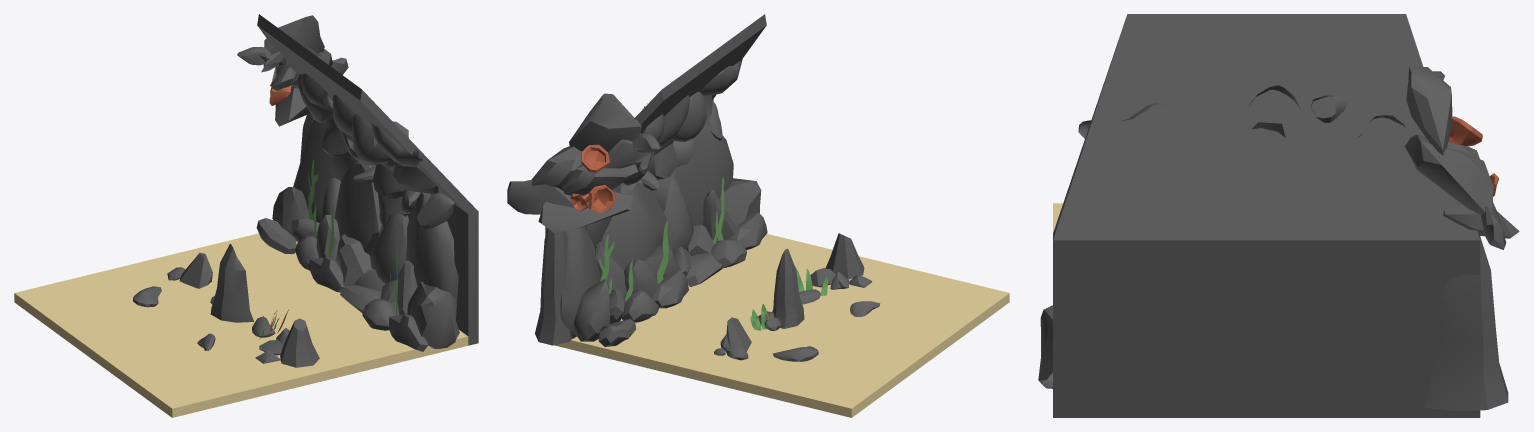
Rendered from SM_Tile_02.fbx.
The picture shows the model from 3 angles, left to right: view 1: azimuth 30°, elevation 25°; view 2: azimuth 150°, elevation 25°; view 3: azimuth 270°, elevation 25°; orthographic projection. The views are drawn at different scales.
Visible parts, largest first — view 1: SM_Tile_02; view 2: SM_Tile_02; view 3: SM_Tile_02.
Part boxes in pixels (x1,y1,x2,y2): SM_Tile_02: (14, 14, 478, 417); SM_Tile_02: (507, 14, 1009, 417); SM_Tile_02: (1038, 14, 1519, 417).
Bounding box in the file's own units: 3558 × 2610 × 3233.
